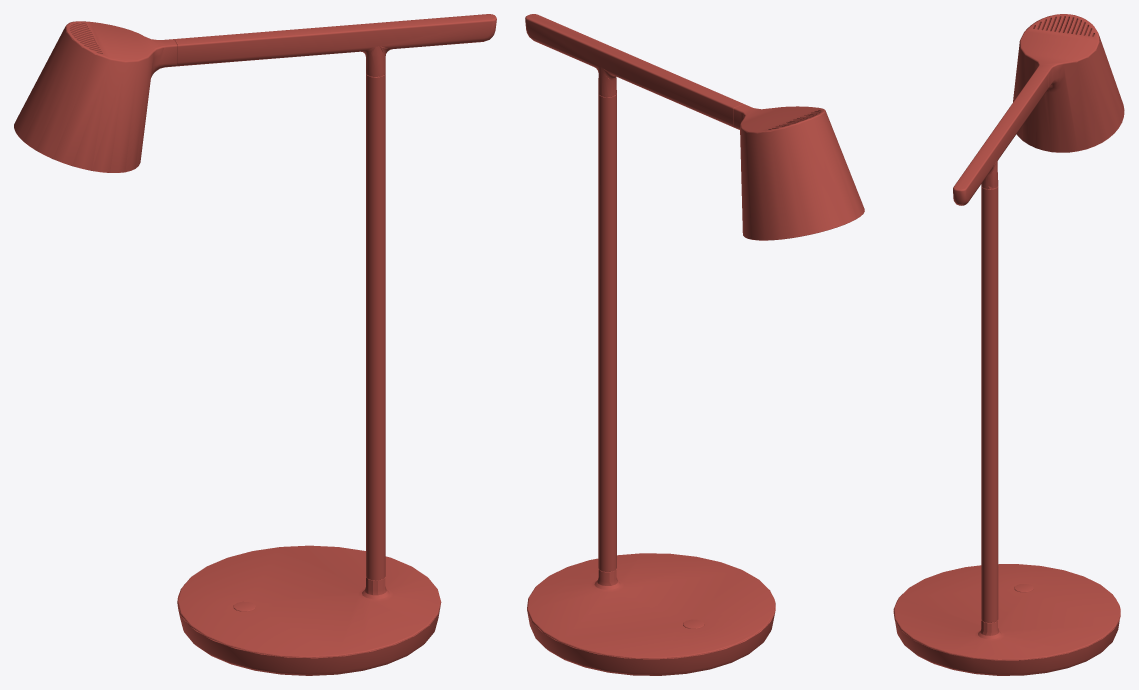
Rendered from lamp.glb.
3 renders of one model, left to right at view 1: azimuth 30°, elevation 25°; view 2: azimuth 150°, elevation 25°; view 3: azimuth 270°, elevation 25°, orthographic. The views are drawn at different scales.
Visible parts, largest first — view 1: Desk-lamp; view 2: Desk-lamp; view 3: Desk-lamp.
Part boxes in pixels (bbox=[...]): Desk-lamp: bbox=[14, 14, 496, 675]; Desk-lamp: bbox=[525, 14, 864, 675]; Desk-lamp: bbox=[893, 14, 1124, 675].
Size of the model in its own units: 0.2873 by 0.412 by 0.1622.
